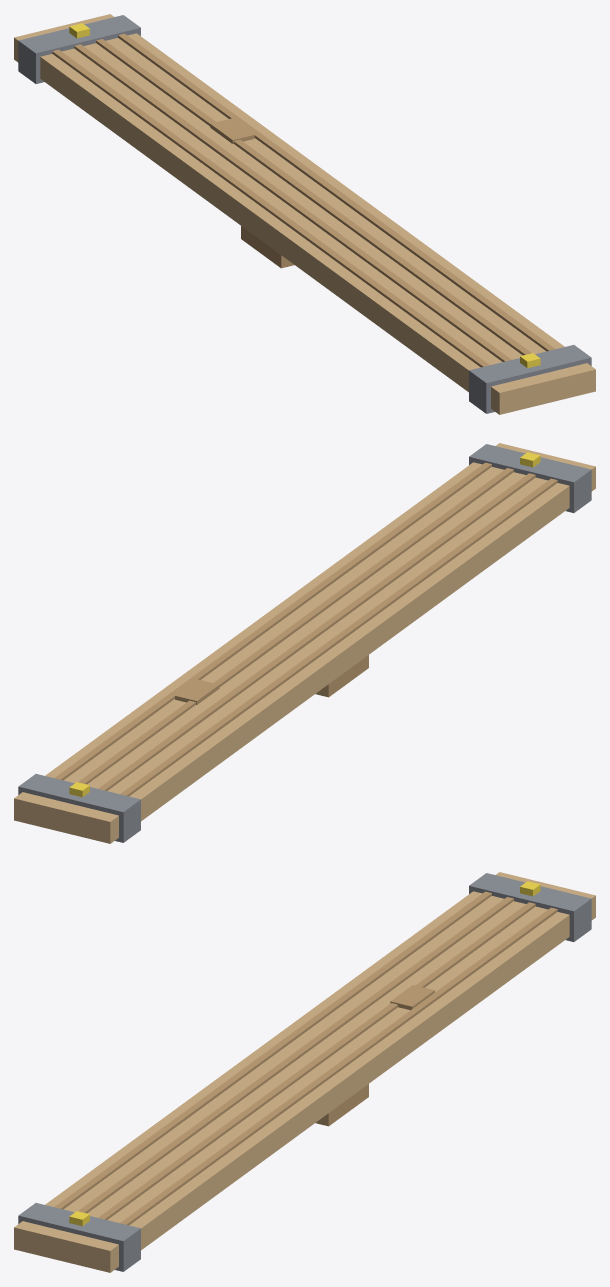
Rendered from plank.glb.
The picture shows the model from 3 angles, top to bottom: view 1: azimuth 30°, elevation 25°; view 2: azimuth 150°, elevation 25°; view 3: azimuth 330°, elevation 25°; orthographic projection.
Visible parts, largest first — view 1: plank; view 2: plank; view 3: plank.
Part boxes in pixels (box(x1,y1,x2,y2)): plank: box(14, 14, 595, 414); plank: box(14, 443, 595, 843); plank: box(14, 872, 595, 1272).
Size of the model in its own units: 0.25 by 0.115 by 2.
